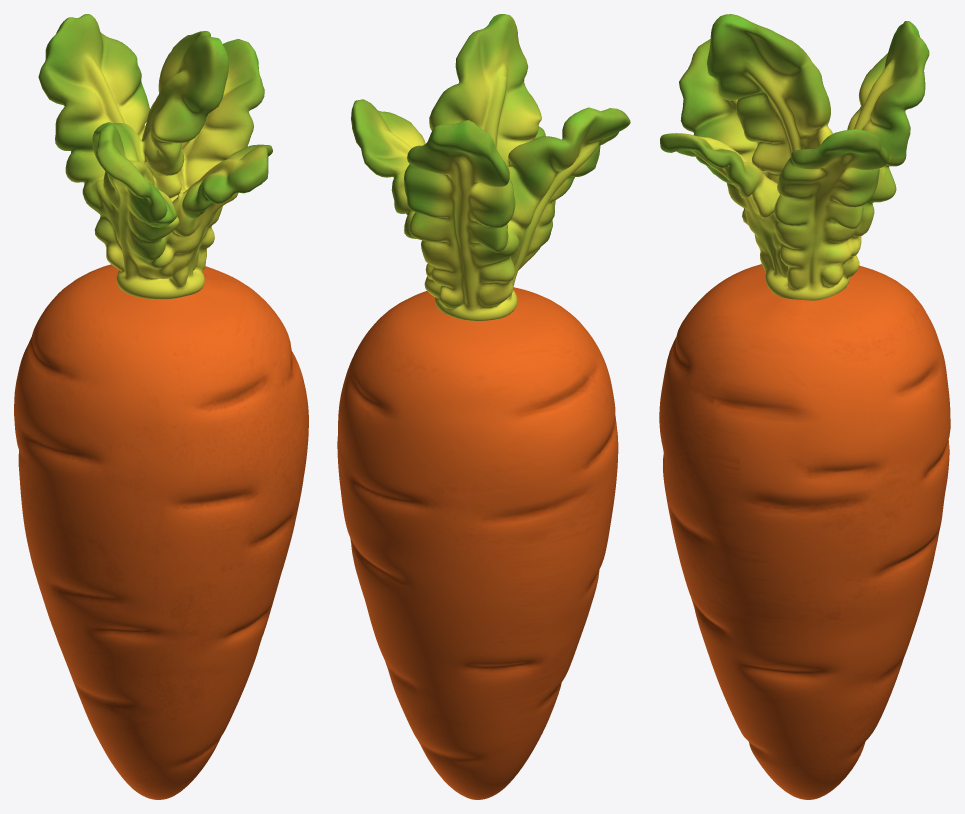
Rendered from carrot.glb.
3 renders of one model, left to right at view 1: azimuth 30°, elevation 25°; view 2: azimuth 150°, elevation 25°; view 3: azimuth 270°, elevation 25°, orthographic. The views are drawn at different scales.
Parts seen in each view (by area): view 1: carrot, leaf; view 2: carrot, leaf; view 3: carrot, leaf.
Part boxes in pixels (bbox=[...]): carrot: bbox=[14, 264, 308, 799]; leaf: bbox=[38, 14, 272, 299]; carrot: bbox=[337, 287, 618, 799]; leaf: bbox=[351, 14, 630, 320]; carrot: bbox=[659, 264, 950, 799]; leaf: bbox=[660, 14, 929, 300].
Bounding box in the file's own units: 11.77 × 34.68 × 11.6.
2 materials, 2 textured.
